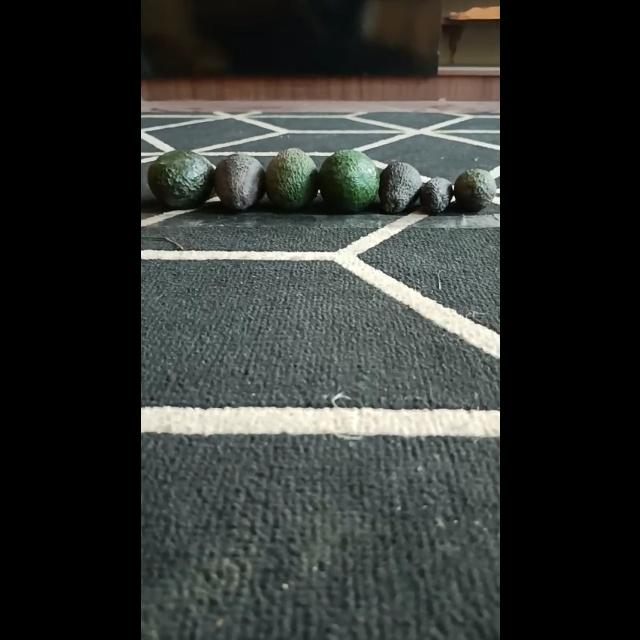Primera: (147, 148, 216, 210), (316, 149, 378, 213), (262, 148, 318, 212), (212, 153, 266, 211)
Segunda: (378, 160, 422, 214), (452, 168, 496, 214)
Tercera: (418, 176, 452, 216)
